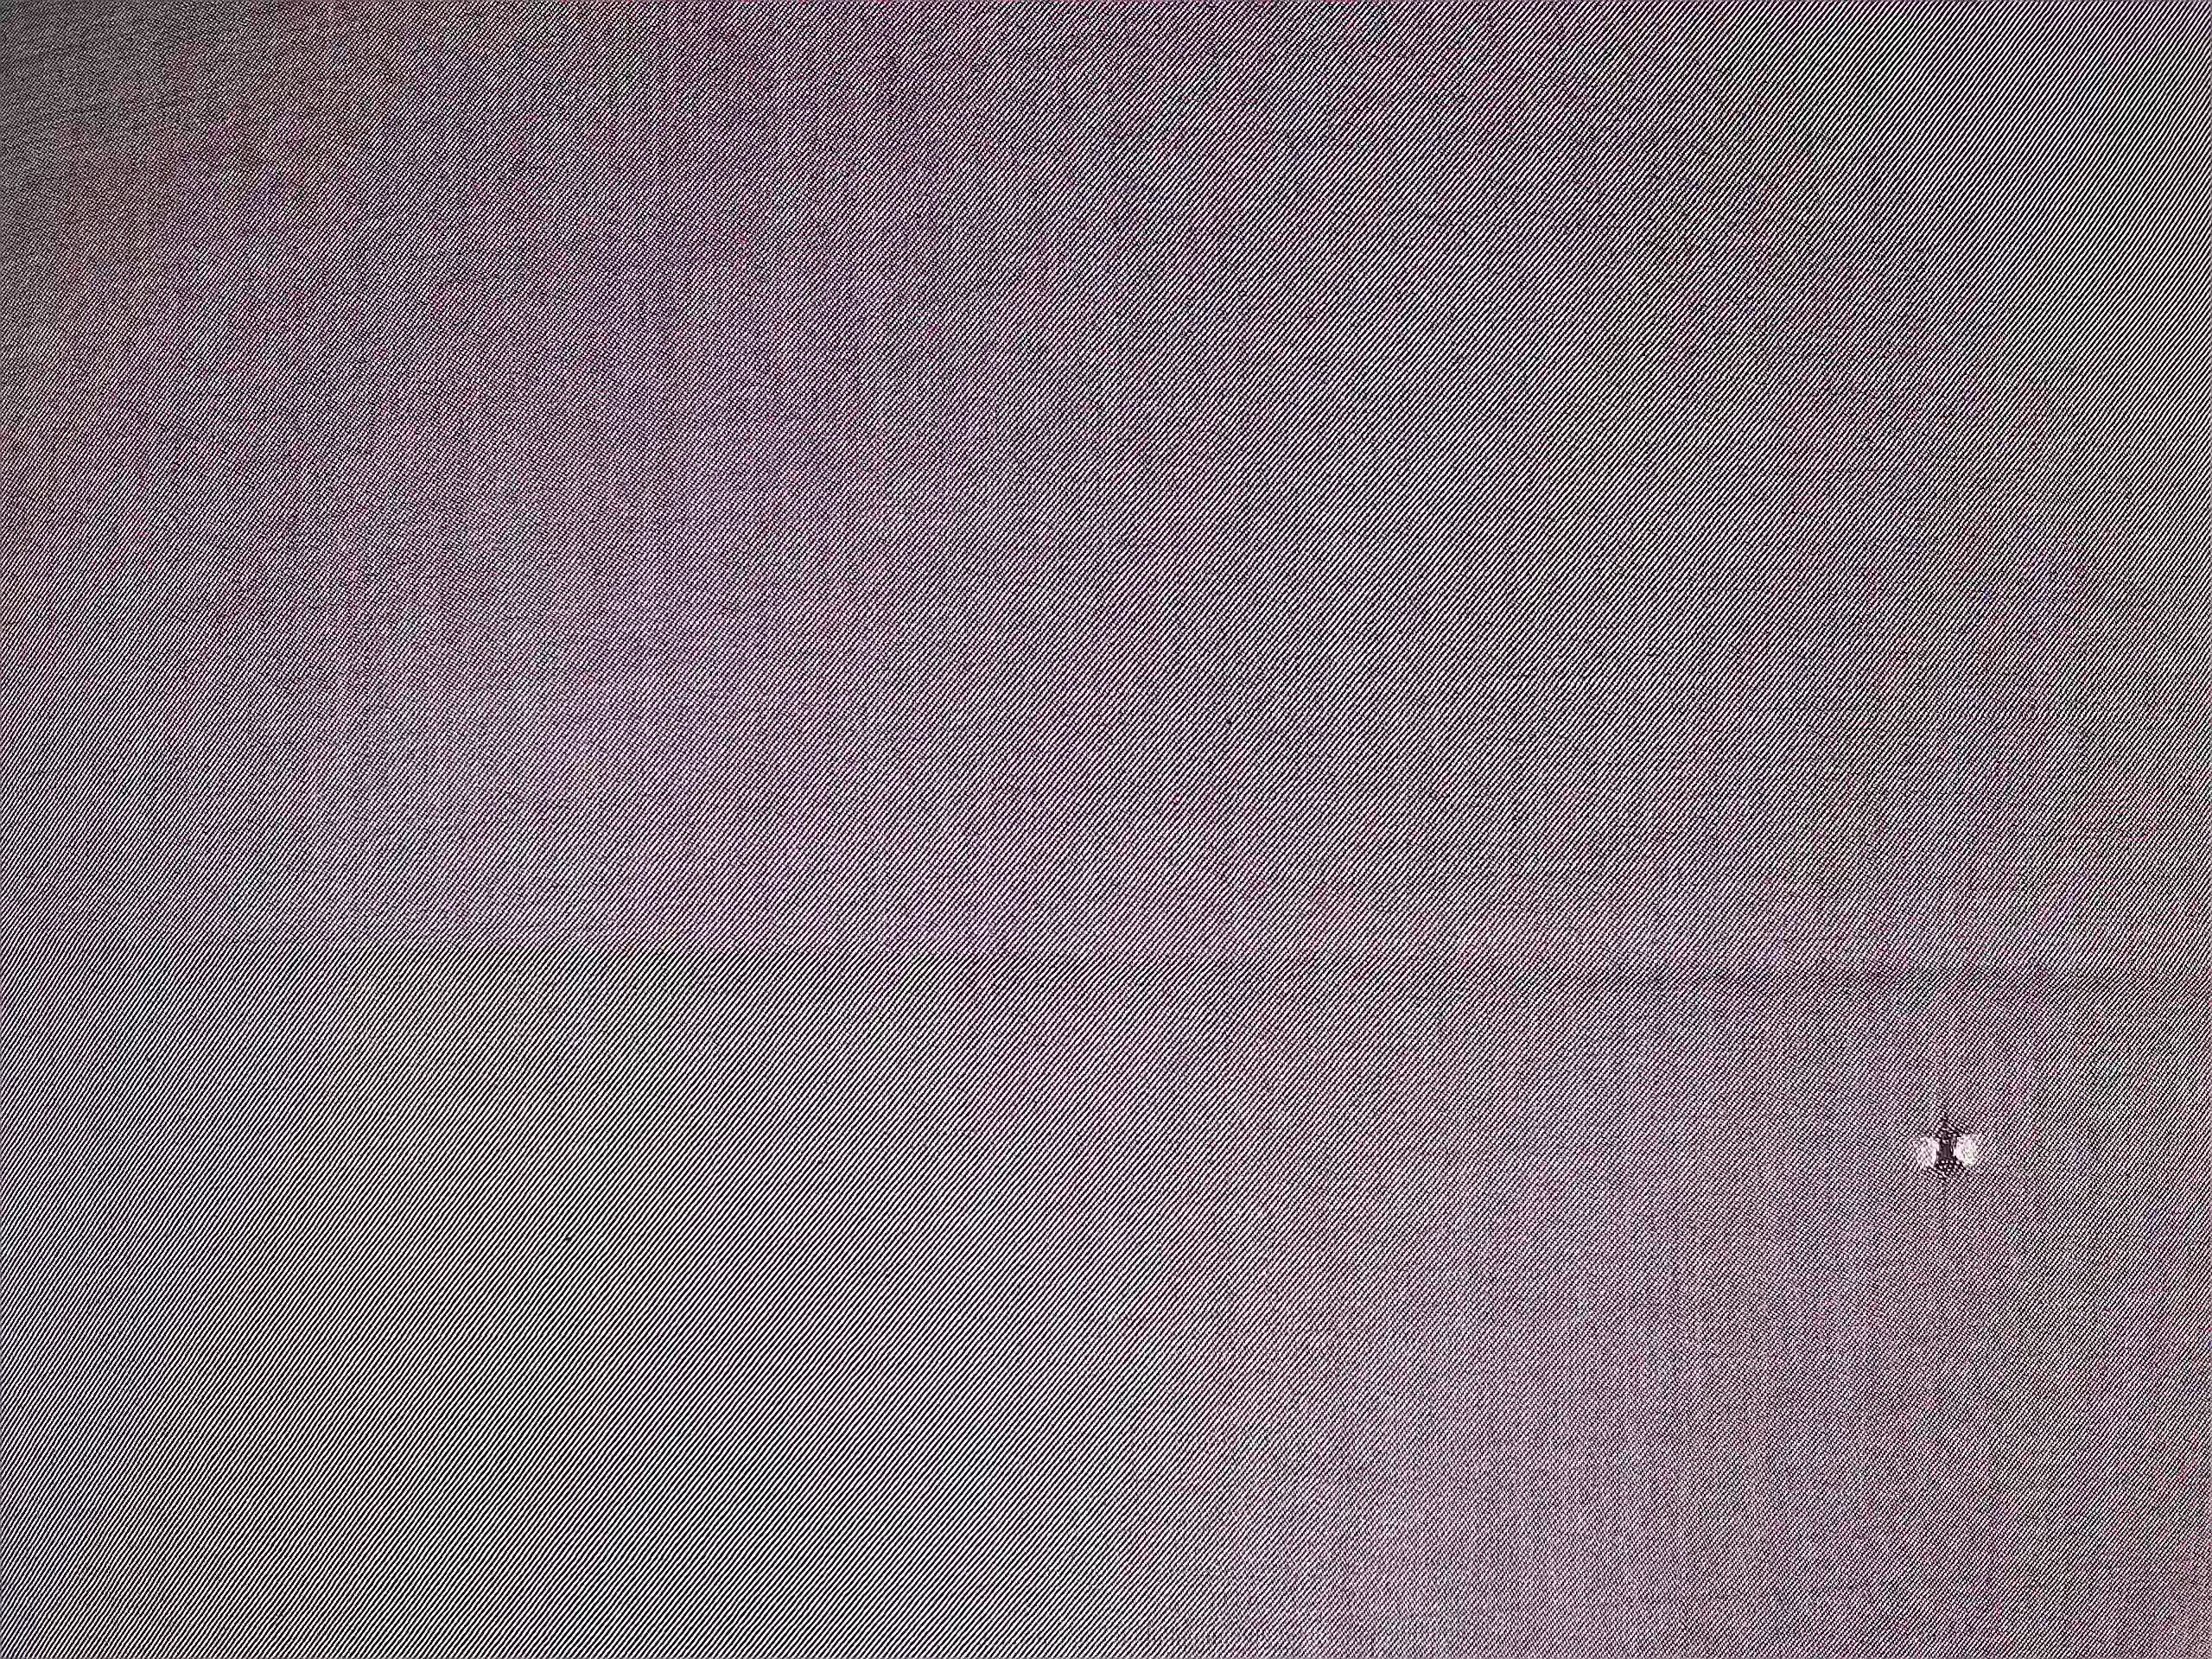rubbing-hole: (1904, 1093, 1987, 1215)
